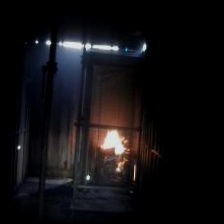fire: (101, 120, 129, 161)
